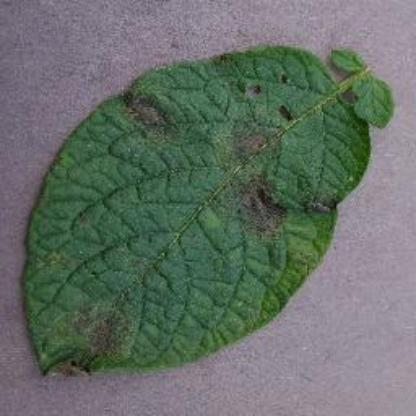Late-Blight: (16, 33, 396, 389)
